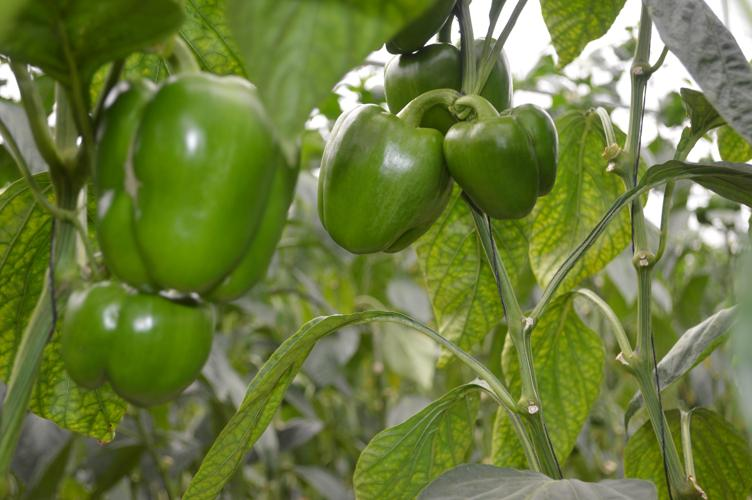BellPepper: (69, 62, 306, 314), (48, 274, 240, 406), (313, 94, 459, 267), (456, 89, 576, 237), (388, 30, 523, 127)
